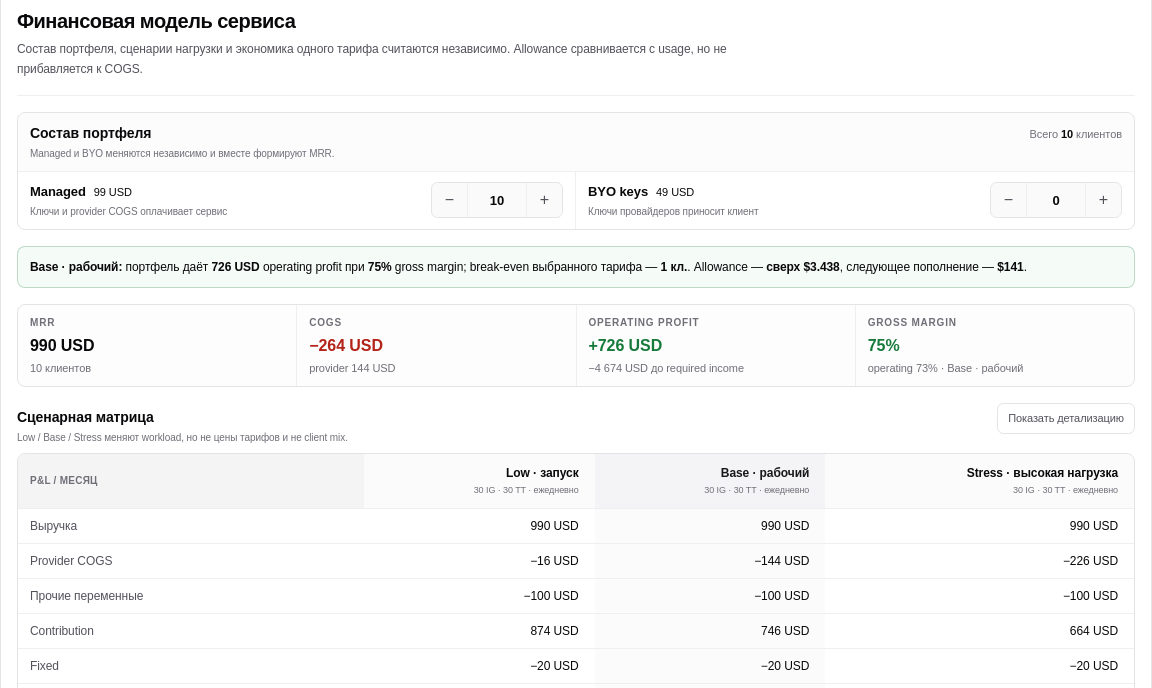
Test: TrendWatcher financial model › показывает decision summary, компактный P&L и детализацию по запросу
Expected: the text "Operating margin" is not shown
Expected: the text "30 IG · 30 TT · ежедневно" is shown 3 times, left=474, top=485, right=579, bottom=495; left=704, top=485, right=809, bottom=495; left=1013, top=485, right=1118, bottom=495
Click the button with aria-label "Показать детализацию P&L". click: [1066, 418]
box: left=997, top=403, right=1135, bottom=434
(page scrolled)
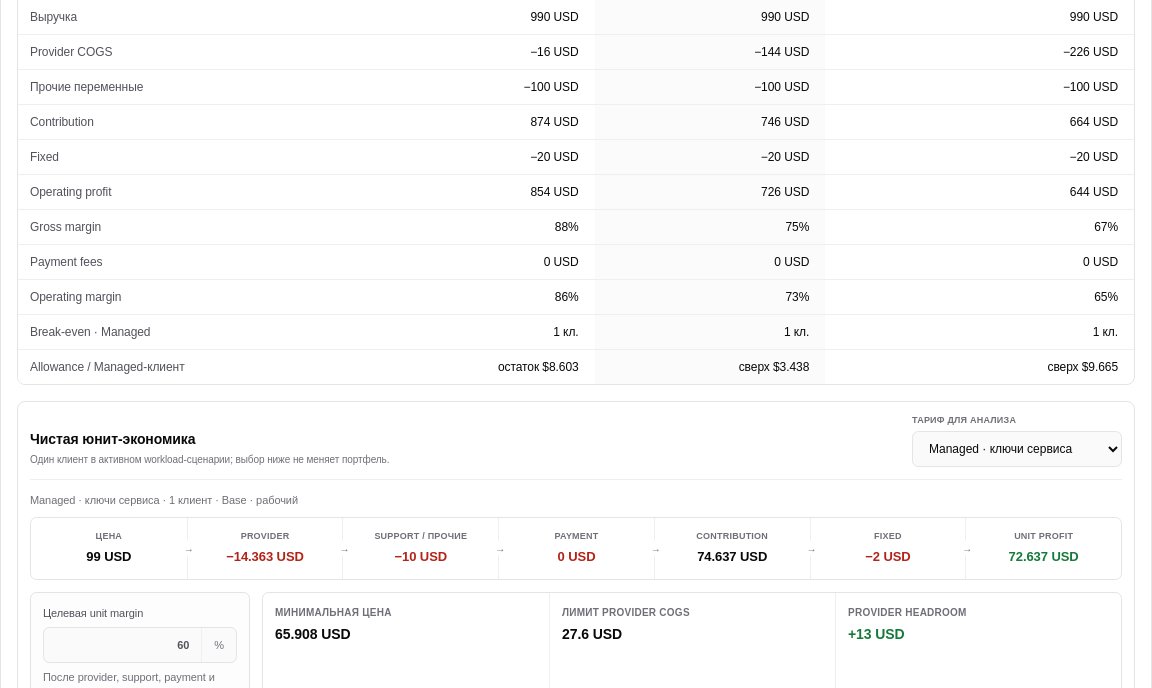
Expected: the column heading "Operating margin" is shown, left=18, top=279, right=364, bottom=314
Expected: the column heading "Break-even · Managed" is shown, left=18, top=314, right=364, bottom=349
